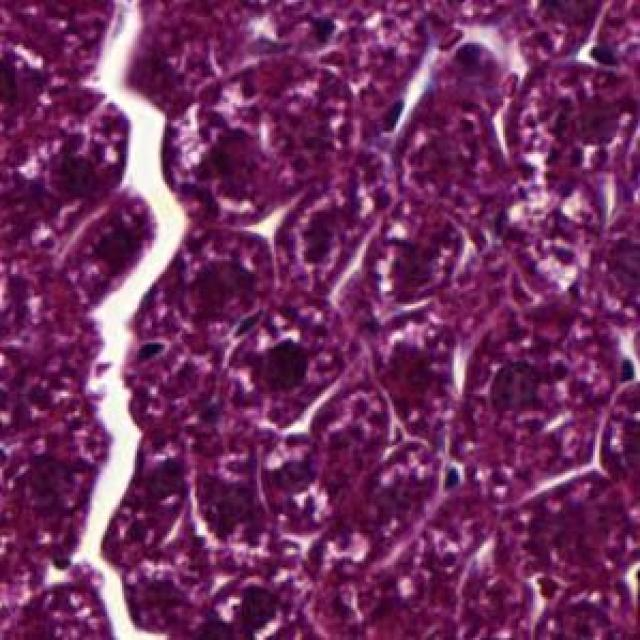inflammation: (353, 192, 467, 328)
